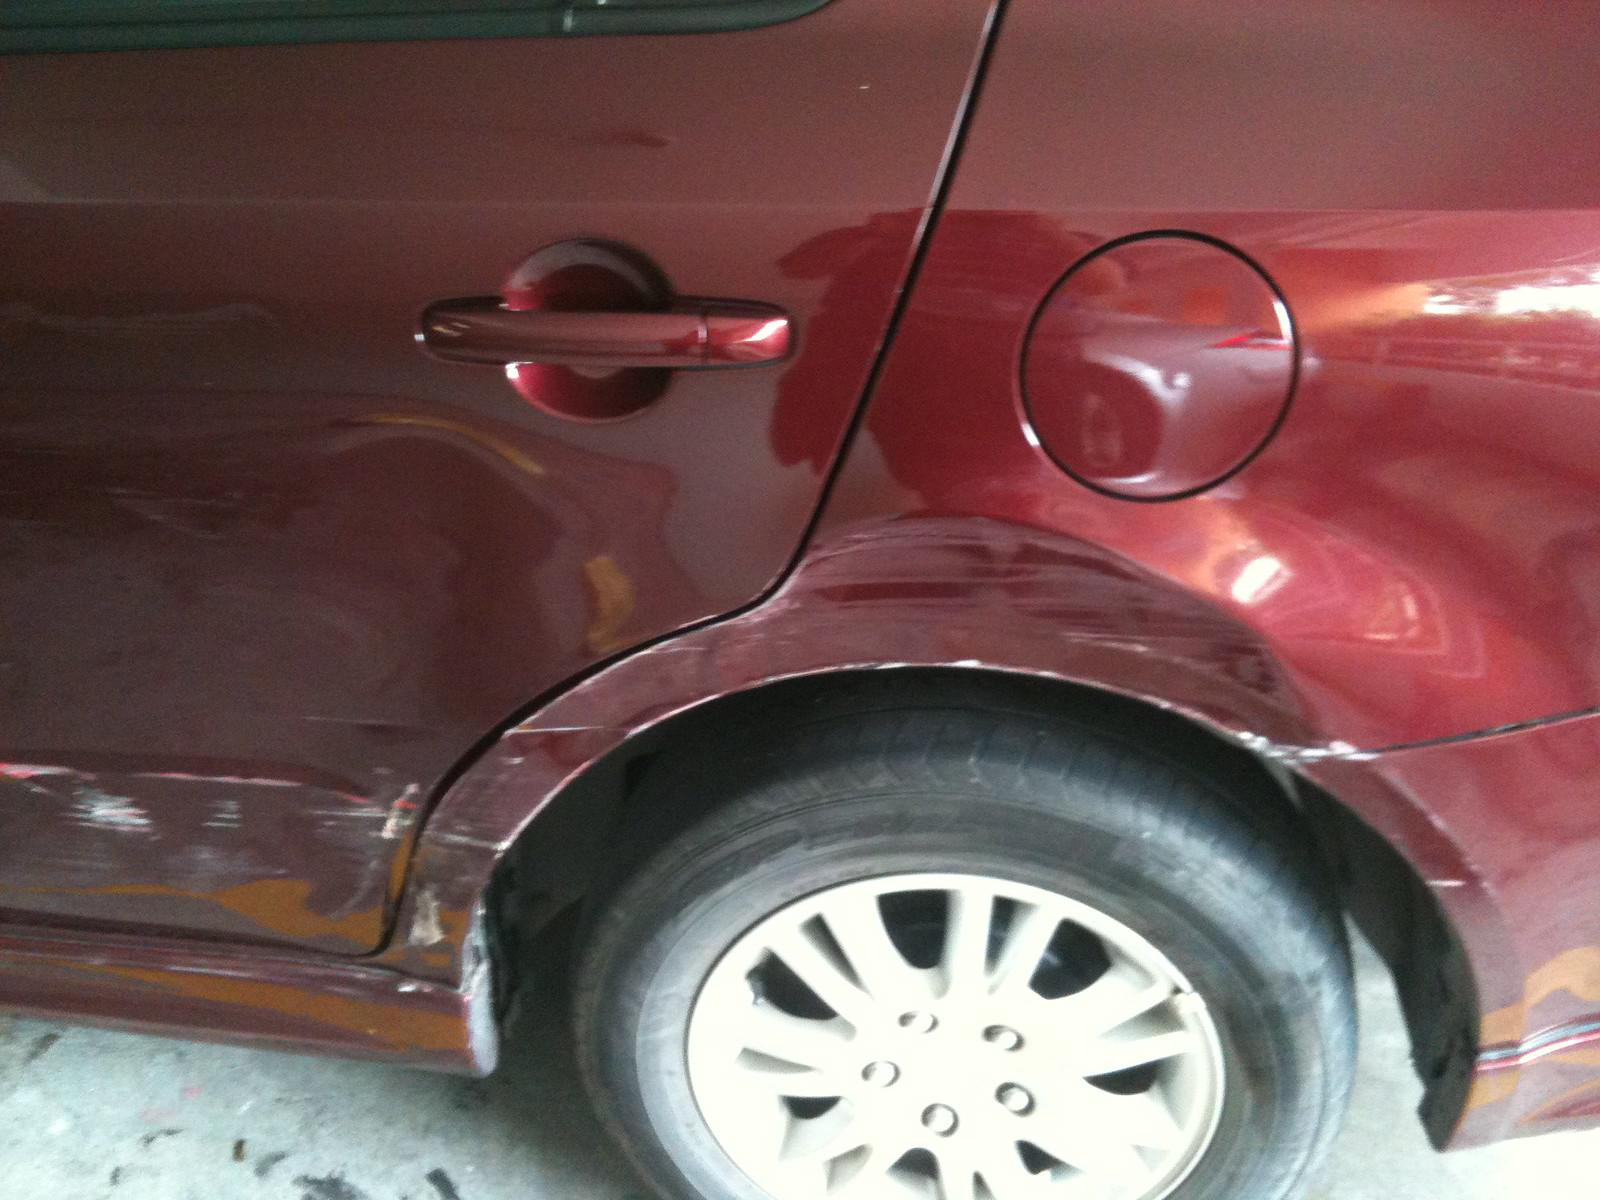doorouter-dent: (0, 253, 420, 929)
quaterpanel-dent: (876, 424, 1403, 816)
